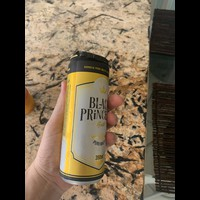blackprincess: (59, 51, 109, 187)
